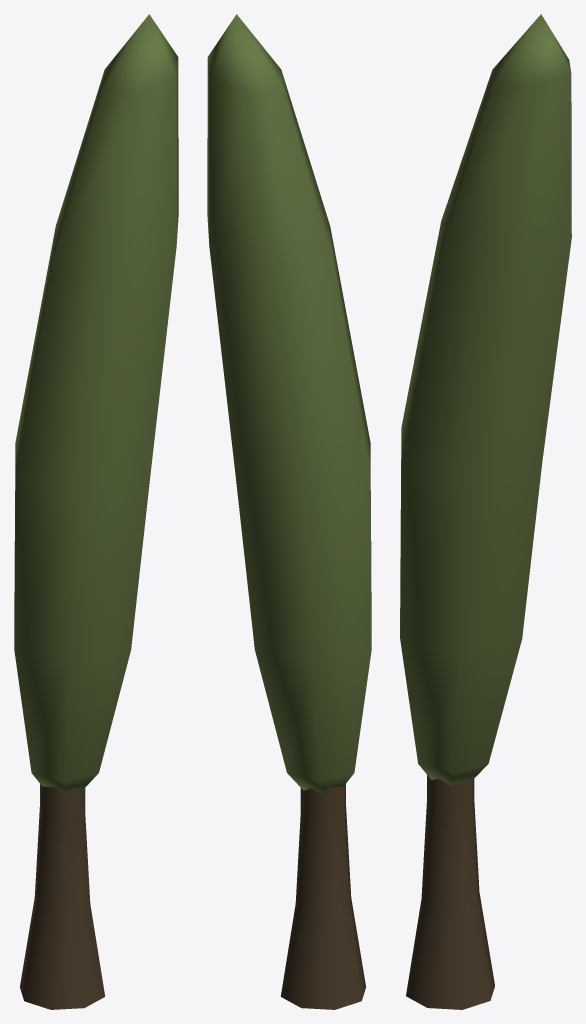
File: PS_Tree04.fbx
The picture shows the model from 3 angles, left to right: view 1: azimuth 30°, elevation 25°; view 2: azimuth 150°, elevation 25°; view 3: azimuth 330°, elevation 25°; orthographic projection. The views are drawn at different scales.
Visible parts, largest first — view 1: PS_Tree04; view 2: PS_Tree04; view 3: PS_Tree04.
Part boxes in pixels (left/top/right/bottom): PS_Tree04: left=14, top=14, right=178, bottom=1009; PS_Tree04: left=207, top=14, right=371, bottom=1009; PS_Tree04: left=400, top=14, right=571, bottom=1009.
Bounding box in the file's own units: 1.88 × 10.45 × 1.34.
